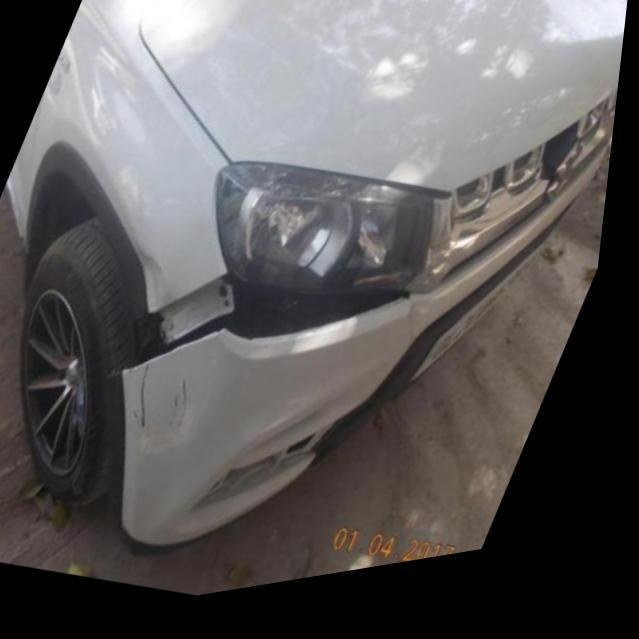dent: (143, 257, 178, 320), (409, 304, 441, 365)
dislocated part: (131, 271, 420, 384)
scratch: (175, 382, 210, 441), (144, 370, 164, 446)
